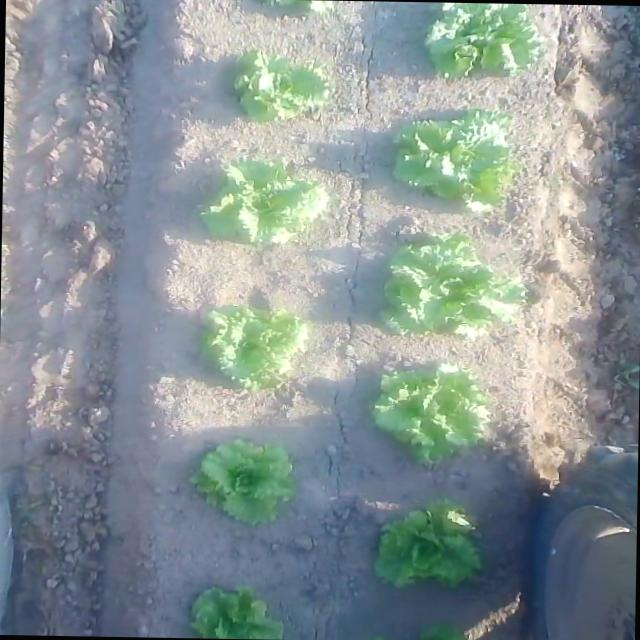Lettuce-Ready-to-Harvest: (372, 357, 496, 475)
